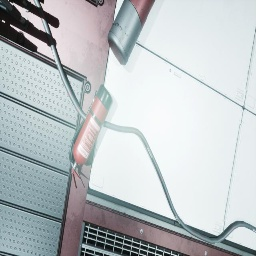FireExtinguisher ]: (69, 84, 113, 188)
NitrogenTank ,: (107, 0, 155, 66)
